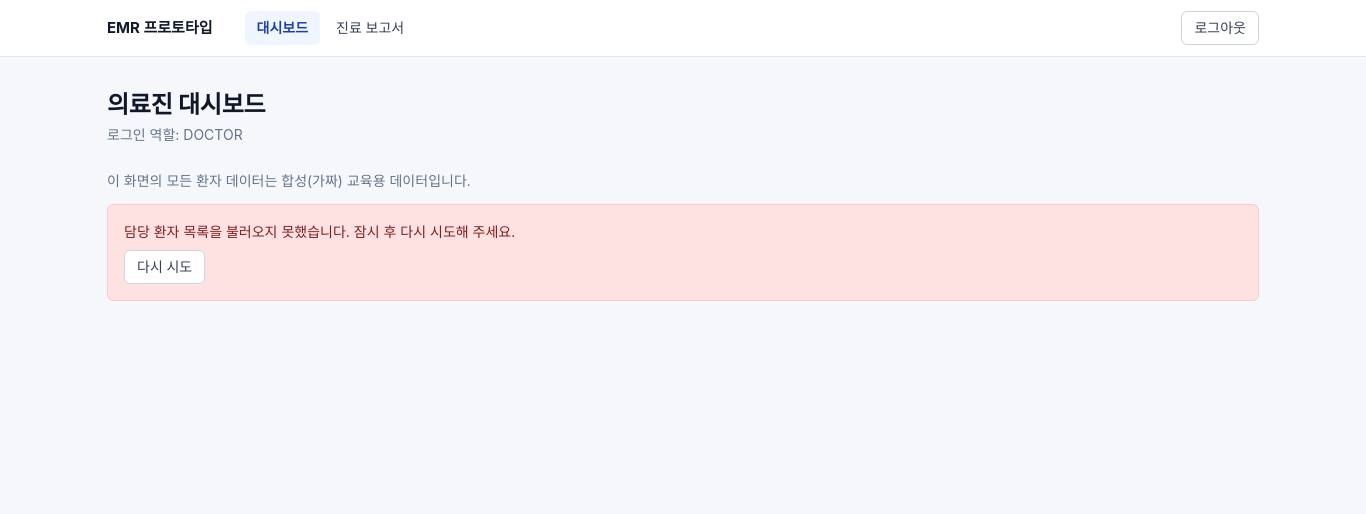
Test case: DoctorDashboard › retries the request when the retry button is clicked
The width and height of the screenshot is (1366, 514).
expect the message "담당 환자 목록을 불러오지 못했습니다. 잠시 후 다시 시도해 주세요. 다시 시도" is shown: met, box [107, 204, 1259, 301]
Click the button "다시 시도" at (165, 267), box [124, 250, 205, 284]
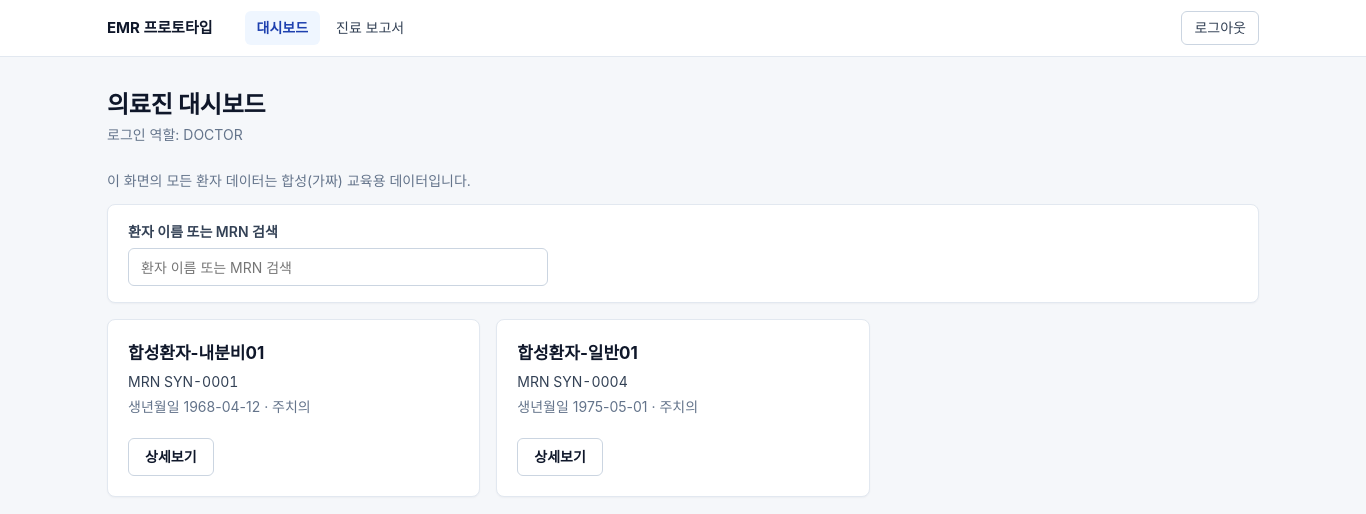
expect the text "합성환자-내분비01" is shown: met, box [128, 343, 264, 363]
